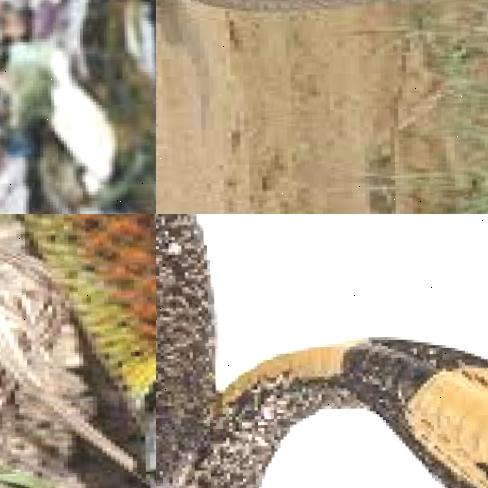snake: (156, 214, 488, 488), (156, 0, 488, 214), (0, 214, 156, 488), (0, 0, 156, 214)
